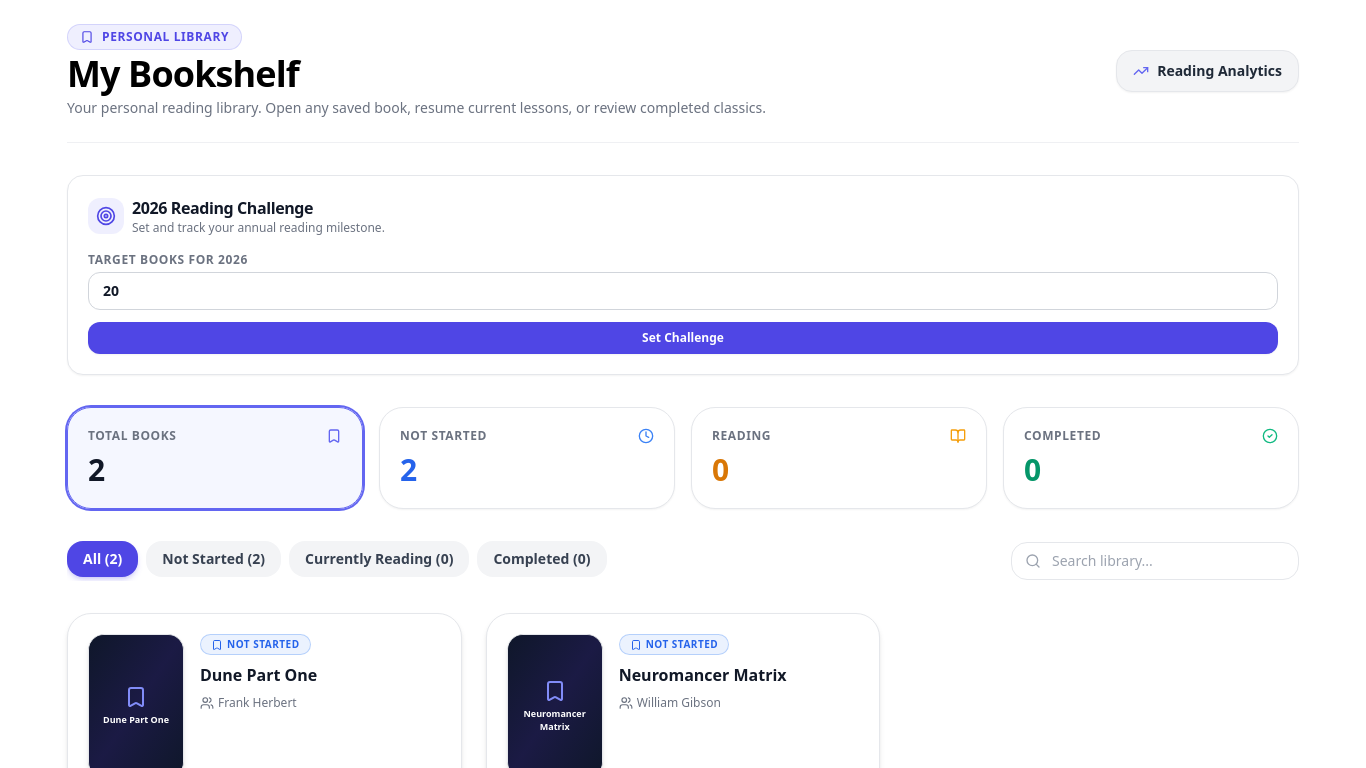
Test: BookshelfView › displays empty state when filter has no books
The image size is (1366, 768).
Check: the text "Dune Part One" is shown, box [103,713,169,727]
Click "Completed" filter button (0 items)
Click the button "Completed (0)": [542, 559] box [477,541,606,577]
(page scrolled)
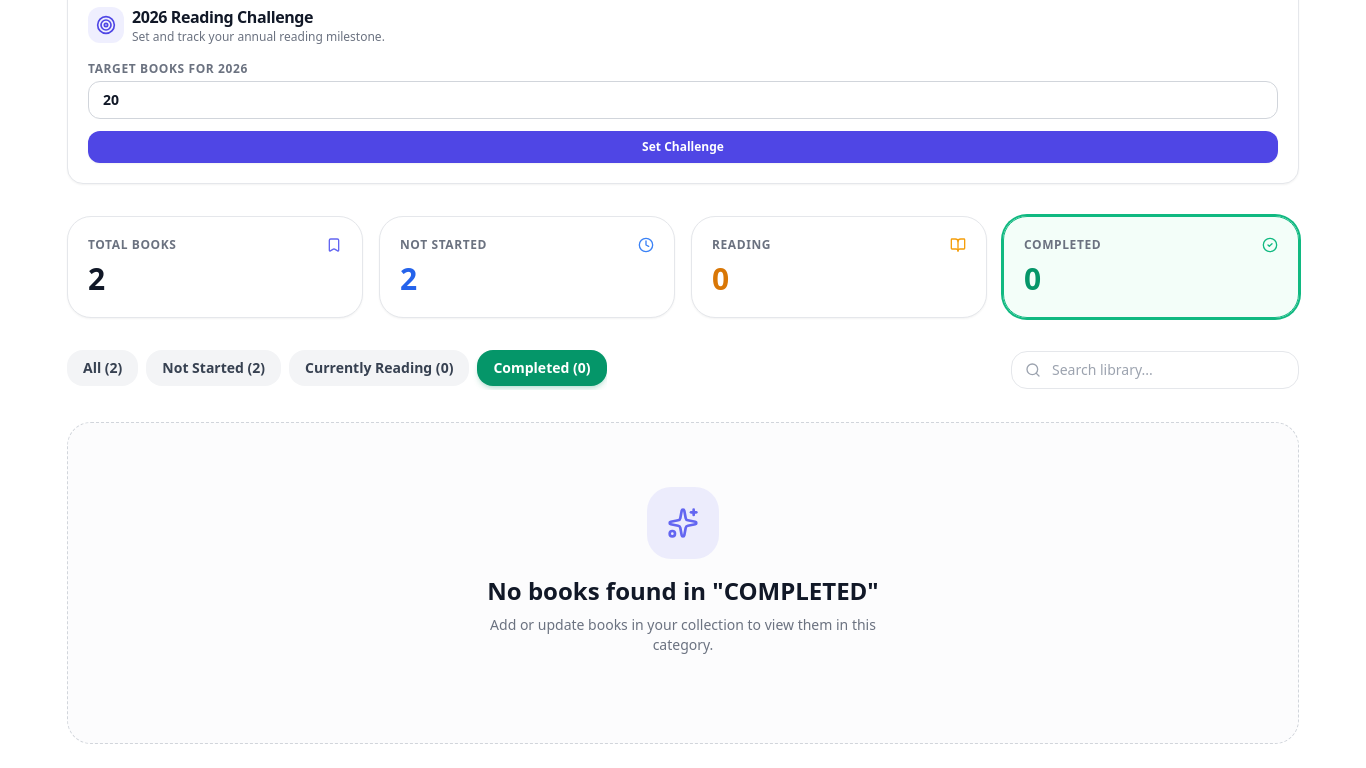
Check: the heading "No books found in \"COMPLETED\"" is shown, box [487,575,879,607]
